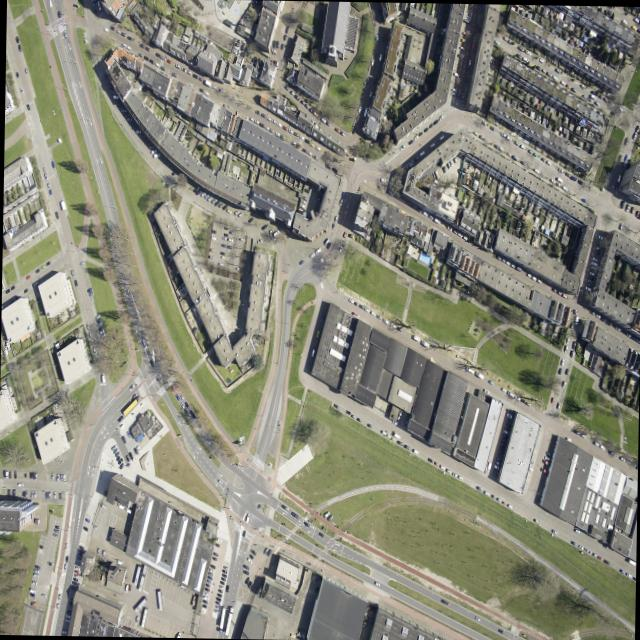large-vehicle: (122, 394, 140, 415), (137, 560, 147, 591), (223, 604, 233, 635), (217, 604, 225, 633), (133, 595, 146, 612), (132, 563, 141, 585), (139, 605, 147, 627), (156, 587, 162, 610)
small-vehicle: (3, 338, 10, 352), (59, 197, 66, 210), (41, 165, 47, 179), (391, 429, 400, 438), (626, 557, 635, 565), (474, 370, 483, 378), (420, 339, 429, 347), (202, 77, 210, 86), (440, 598, 450, 605), (188, 408, 195, 418), (506, 389, 514, 397), (464, 366, 473, 373), (99, 500, 106, 509), (485, 461, 491, 471), (412, 333, 419, 341), (313, 245, 320, 253), (116, 501, 123, 509), (541, 457, 548, 465), (124, 505, 131, 513), (100, 371, 105, 382), (141, 336, 146, 347), (120, 434, 126, 443), (362, 106, 367, 116), (2, 346, 7, 356), (590, 259, 597, 266), (555, 175, 562, 182), (514, 264, 521, 271), (322, 510, 329, 517), (351, 310, 358, 317), (28, 586, 35, 593), (291, 510, 297, 518), (332, 251, 338, 259), (116, 456, 122, 464), (128, 382, 134, 390), (249, 547, 255, 555), (624, 202, 629, 211), (619, 199, 624, 208), (395, 411, 400, 420), (337, 196, 342, 205), (179, 400, 184, 409), (123, 583, 128, 592), (62, 29, 67, 38), (517, 44, 523, 51), (569, 174, 576, 180), (559, 78, 565, 85), (589, 92, 595, 99), (630, 23, 636, 30), (564, 435, 570, 442), (545, 70, 551, 77), (433, 216, 439, 223), (521, 55, 527, 62), (432, 117, 438, 124), (439, 463, 445, 470), (404, 443, 410, 450), (293, 93, 299, 100), (115, 557, 121, 564), (250, 55, 256, 62), (264, 114, 270, 121), (272, 228, 278, 235), (456, 230, 462, 237), (213, 198, 219, 205), (138, 41, 144, 48), (148, 57, 154, 64), (265, 548, 271, 555), (152, 151, 159, 157), (568, 320, 573, 328), (616, 153, 621, 161), (615, 173, 620, 181), (622, 136, 627, 144), (631, 130, 636, 138), (112, 446, 117, 454), (125, 429, 130, 437), (125, 454, 130, 462), (323, 237, 328, 245), (118, 461, 123, 469), (244, 576, 249, 584), (148, 358, 153, 366), (16, 43, 21, 51), (173, 382, 178, 390), (174, 392, 179, 400), (245, 512, 249, 522), (262, 546, 267, 554), (96, 0, 100, 9), (571, 339, 575, 348), (603, 558, 609, 564), (585, 548, 591, 554), (570, 539, 576, 545), (584, 285, 590, 291), (573, 330, 577, 339), (532, 167, 538, 173), (629, 334, 635, 340), (599, 315, 605, 321), (573, 527, 579, 533), (511, 153, 517, 159), (591, 255, 597, 261), (593, 248, 599, 254), (576, 178, 582, 184), (620, 18, 626, 24), (573, 428, 579, 434), (579, 432, 585, 438), (554, 67, 560, 73), (128, 450, 132, 459), (604, 8, 610, 14), (632, 16, 638, 22), (515, 52, 521, 58), (530, 274, 536, 280), (499, 131, 505, 137), (598, 443, 604, 449), (463, 18, 469, 24), (540, 466, 546, 472), (502, 428, 508, 434), (505, 412, 511, 418), (526, 465, 532, 471), (513, 394, 519, 400), (482, 387, 488, 393), (375, 313, 381, 319), (415, 206, 421, 212), (448, 157, 452, 166), (446, 159, 450, 168), (441, 163, 445, 172), (432, 178, 438, 184), (382, 317, 388, 323), (389, 321, 395, 327), (412, 154, 418, 160), (456, 52, 462, 58), (501, 432, 507, 438), (412, 448, 418, 454), (396, 439, 402, 445), (308, 251, 314, 257), (280, 503, 286, 509), (310, 346, 314, 355), (524, 49, 530, 55), (535, 64, 541, 70), (326, 514, 332, 520), (347, 297, 353, 303), (324, 161, 330, 167), (314, 144, 320, 150), (311, 153, 317, 159), (300, 194, 306, 200), (281, 124, 287, 130), (292, 130, 298, 136), (202, 589, 208, 595), (319, 116, 325, 122), (254, 108, 260, 114), (215, 86, 221, 92), (210, 83, 216, 89), (191, 72, 197, 78), (363, 306, 369, 312), (97, 324, 103, 330), (101, 548, 105, 557), (195, 188, 201, 194), (225, 207, 231, 213), (260, 223, 266, 229), (119, 30, 125, 36), (143, 45, 149, 51), (142, 54, 148, 60), (56, 8, 60, 17), (65, 608, 71, 614), (69, 584, 75, 590), (70, 268, 74, 277), (86, 286, 92, 292), (51, 531, 57, 537), (32, 571, 38, 577), (33, 563, 39, 569), (110, 443, 115, 450), (135, 444, 140, 451), (117, 414, 122, 421), (438, 133, 443, 140), (325, 241, 330, 248), (183, 400, 188, 407), (246, 556, 251, 563), (246, 580, 251, 587), (308, 106, 313, 113), (96, 319, 101, 326), (569, 349, 573, 357), (561, 379, 565, 387), (557, 366, 561, 374), (559, 357, 563, 365), (592, 217, 596, 225), (452, 154, 456, 162), (377, 52, 381, 60), (613, 181, 617, 189), (618, 221, 622, 229), (319, 313, 323, 321), (224, 583, 228, 591), (274, 59, 278, 67), (271, 58, 275, 66), (134, 614, 138, 622), (365, 74, 369, 82), (357, 105, 361, 113), (284, 24, 288, 32), (282, 32, 286, 40), (179, 391, 183, 399), (456, 166, 460, 174), (92, 345, 96, 353), (239, 42, 243, 50), (14, 34, 18, 42), (50, 159, 54, 167), (85, 321, 89, 329), (73, 278, 77, 286), (54, 210, 58, 218), (551, 528, 556, 534), (587, 274, 593, 279), (596, 554, 601, 560), (577, 543, 582, 549), (602, 542, 607, 548), (545, 159, 550, 165), (586, 95, 591, 101), (594, 312, 599, 318), (605, 319, 610, 325), (614, 325, 620, 330), (560, 292, 566, 297), (564, 171, 569, 177), (561, 184, 566, 190), (593, 440, 598, 446), (114, 450, 119, 456), (283, 84, 288, 90), (509, 262, 514, 268), (504, 259, 509, 265), (495, 254, 500, 260), (492, 143, 498, 148), (505, 134, 510, 140), (493, 38, 498, 44), (618, 455, 624, 460), (608, 449, 613, 455), (535, 277, 540, 283), (540, 67, 545, 73), (506, 502, 511, 508), (483, 489, 488, 495), (476, 485, 481, 491), (492, 463, 498, 468), (373, 580, 379, 585), (524, 400, 529, 406), (487, 379, 493, 384), (396, 325, 401, 331), (369, 310, 375, 315), (446, 224, 451, 230), (427, 213, 432, 219), (428, 141, 433, 147), (399, 143, 404, 149), (418, 149, 423, 155), (437, 113, 442, 119), (452, 71, 458, 76), (407, 138, 412, 144), (317, 531, 323, 536), (445, 467, 450, 473), (427, 456, 432, 462), (303, 520, 308, 526), (339, 129, 344, 135), (334, 126, 339, 132), (331, 166, 336, 172), (295, 141, 300, 147), (303, 137, 308, 143), (303, 187, 308, 193), (300, 198, 305, 204), (299, 202, 304, 208), (298, 133, 303, 139), (287, 127, 292, 133), (202, 594, 208, 599), (270, 47, 275, 53), (207, 246, 213, 251), (238, 236, 244, 241), (226, 236, 232, 241), (242, 569, 248, 574), (243, 563, 248, 569), (212, 550, 217, 556), (208, 566, 213, 572), (203, 89, 208, 95), (197, 75, 202, 81), (258, 121, 263, 127), (253, 118, 258, 124), (625, 571, 630, 577), (237, 210, 242, 216), (275, 120, 280, 126), (274, 130, 279, 136), (543, 454, 548, 460), (551, 73, 556, 79), (95, 316, 100, 322), (94, 312, 99, 318), (240, 38, 245, 44), (217, 201, 222, 207), (210, 197, 215, 203), (221, 203, 226, 209), (233, 208, 238, 214), (247, 216, 252, 222), (126, 34, 131, 40), (159, 64, 164, 70), (179, 66, 185, 71), (174, 62, 179, 68), (109, 24, 114, 30), (77, 548, 82, 554), (102, 73, 108, 78), (67, 600, 72, 606), (74, 564, 79, 570), (131, 392, 136, 398), (64, 612, 70, 617), (109, 88, 115, 93), (165, 57, 170, 63), (159, 53, 164, 59), (154, 51, 159, 57), (39, 263, 44, 269), (24, 273, 29, 279), (4, 287, 9, 293), (12, 293, 17, 299), (7, 297, 12, 303), (87, 290, 92, 296), (44, 259, 49, 265), (52, 527, 58, 532), (33, 567, 38, 573), (565, 336, 569, 343), (623, 153, 627, 160), (634, 209, 638, 216), (564, 367, 568, 374), (563, 344, 567, 351), (634, 124, 638, 131), (133, 446, 137, 453), (128, 427, 132, 434), (629, 205, 633, 212), (372, 49, 376, 56), (369, 58, 373, 65), (315, 329, 319, 336), (342, 230, 346, 237), (340, 190, 344, 197), (351, 126, 355, 133), (183, 407, 187, 414), (279, 42, 283, 49), (236, 48, 240, 55), (367, 90, 371, 97), (25, 102, 29, 109), (19, 85, 23, 92), (14, 70, 18, 77), (23, 65, 27, 72), (170, 384, 174, 391), (241, 529, 245, 536), (64, 554, 68, 561), (47, 187, 51, 194), (637, 210, 640, 219), (470, 42, 473, 51), (372, 73, 375, 82), (55, 472, 58, 481), (588, 270, 593, 275), (619, 568, 624, 573), (625, 331, 630, 336), (570, 86, 575, 91), (581, 93, 586, 98), (588, 309, 593, 314), (590, 264, 595, 269), (597, 234, 602, 239), (593, 100, 598, 105), (610, 110, 615, 115), (558, 167, 563, 172), (519, 159, 524, 164), (497, 628, 502, 633), (474, 615, 479, 620), (579, 82, 584, 87), (590, 89, 595, 94), (597, 93, 602, 98), (602, 96, 607, 101), (545, 450, 550, 455), (497, 145, 502, 150), (502, 35, 507, 40), (519, 143, 524, 148), (527, 148, 532, 153), (461, 30, 466, 35), (513, 140, 518, 145), (490, 493, 495, 498), (495, 455, 500, 460), (497, 448, 502, 453), (503, 424, 508, 429), (528, 458, 533, 463), (520, 398, 525, 403), (500, 437, 505, 442), (500, 386, 505, 391), (498, 444, 503, 449), (451, 228, 456, 233), (422, 210, 427, 215), (450, 90, 455, 95), (450, 86, 455, 91), (580, 197, 585, 202), (366, 422, 371, 427), (433, 460, 438, 465), (391, 419, 396, 424), (358, 303, 363, 308), (332, 156, 337, 161), (306, 149, 311, 154), (290, 139, 295, 144), (278, 133, 283, 138), (316, 196, 321, 201), (308, 141, 313, 146), (215, 595, 220, 600), (216, 591, 221, 596), (202, 598, 207, 603), (204, 582, 209, 587), (350, 413, 355, 418), (205, 578, 210, 583), (356, 416, 361, 421), (344, 409, 349, 414), (299, 99, 304, 104), (209, 563, 214, 568), (211, 555, 216, 560), (312, 110, 317, 115), (332, 402, 337, 407), (206, 574, 211, 579), (207, 570, 212, 575), (263, 124, 268, 129), (260, 112, 265, 117), (270, 118, 275, 123), (198, 87, 203, 92), (231, 48, 236, 53), (451, 471, 456, 476), (233, 41, 238, 46), (210, 228, 215, 233), (192, 186, 197, 191), (98, 328, 103, 333), (171, 169, 176, 174), (92, 523, 97, 528), (235, 37, 240, 42), (203, 193, 208, 198), (206, 195, 211, 200), (267, 127, 272, 132), (215, 536, 220, 541), (179, 583, 184, 588), (120, 41, 125, 46), (125, 44, 130, 49), (137, 52, 142, 57), (171, 71, 176, 76), (102, 26, 107, 31), (76, 553, 81, 558), (68, 597, 73, 602), (71, 580, 76, 585), (72, 576, 77, 581), (64, 617, 69, 622), (135, 128, 140, 133), (115, 98, 120, 103), (105, 78, 110, 83), (34, 267, 39, 272), (22, 287, 27, 292), (9, 284, 14, 289), (40, 592, 45, 597), (82, 525, 87, 530), (222, 564, 227, 569), (221, 572, 226, 577), (46, 560, 51, 565), (31, 579, 36, 584), (29, 591, 34, 596), (78, 544, 83, 549), (574, 315, 577, 323), (621, 160, 625, 166), (549, 396, 553, 402), (115, 454, 119, 460), (4, 469, 7, 477), (540, 156, 544, 162), (636, 27, 640, 33), (565, 82, 569, 88), (489, 124, 493, 130), (464, 74, 467, 82), (498, 441, 504, 445), (423, 125, 427, 131), (331, 221, 334, 229), (337, 245, 341, 251), (217, 478, 221, 484), (275, 39, 278, 47), (271, 39, 274, 47), (304, 102, 308, 108), (206, 254, 212, 258), (459, 44, 463, 50), (52, 490, 55, 498), (125, 116, 131, 120), (47, 490, 50, 498), (79, 259, 83, 265), (289, 89, 293, 95), (34, 471, 37, 479), (12, 488, 15, 496), (13, 469, 16, 477), (7, 469, 10, 477), (33, 489, 36, 497), (63, 562, 66, 570), (24, 489, 27, 497), (87, 330, 91, 336), (556, 401, 559, 408), (467, 58, 470, 65), (460, 91, 463, 98), (465, 66, 468, 73), (477, 5, 480, 12), (376, 7, 379, 14), (378, 16, 381, 23), (313, 338, 316, 345), (333, 214, 336, 221), (269, 58, 272, 65), (127, 583, 130, 590), (96, 546, 99, 553), (57, 592, 60, 599), (46, 180, 49, 187), (50, 471, 53, 478), (31, 471, 34, 478), (6, 488, 9, 495), (587, 278, 591, 283), (591, 552, 596, 556), (532, 151, 536, 156), (556, 289, 560, 294), (595, 245, 599, 250), (617, 105, 621, 110), (506, 151, 510, 156), (147, 144, 152, 148), (500, 257, 504, 262), (461, 235, 466, 239), (473, 130, 477, 135), (526, 272, 530, 277), (481, 120, 485, 125), (186, 69, 190, 74), (496, 496, 500, 501), (457, 474, 461, 479), (505, 421, 509, 426), (428, 122, 432, 127), (379, 177, 384, 181), (417, 130, 421, 135), (413, 134, 417, 139), (298, 259, 302, 264), (217, 587, 221, 592), (218, 583, 222, 588), (201, 603, 206, 607), (204, 586, 208, 591), (228, 230, 233, 234), (219, 250, 224, 254), (220, 242, 225, 246), (226, 244, 231, 248), (248, 553, 252, 558), (217, 261, 222, 265), (325, 120, 329, 125), (248, 115, 252, 120), (549, 177, 553, 182), (100, 331, 104, 336), (200, 191, 204, 196), (209, 235, 214, 239), (268, 227, 272, 232), (214, 542, 219, 546), (107, 84, 112, 88), (154, 61, 158, 66), (115, 28, 119, 33), (75, 557, 80, 561), (91, 1, 96, 5), (219, 579, 223, 584), (138, 132, 143, 136), (73, 569, 78, 573), (61, 628, 65, 633), (117, 103, 122, 107), (131, 124, 136, 128), (33, 280, 37, 285), (220, 576, 225, 580), (221, 568, 226, 572), (150, 148, 155, 152), (84, 517, 88, 522), (54, 524, 59, 528), (37, 544, 42, 548), (239, 50, 242, 56), (58, 492, 61, 498), (44, 491, 47, 497), (55, 602, 58, 608), (122, 112, 128, 115), (28, 471, 31, 477), (61, 473, 64, 479), (21, 489, 24, 495), (586, 282, 590, 286), (551, 287, 555, 291), (555, 181, 559, 185), (501, 500, 505, 504), (353, 301, 357, 305), (301, 147, 305, 151), (214, 604, 218, 608), (215, 600, 219, 604), (213, 608, 217, 612), (221, 235, 225, 239), (223, 232, 227, 236), (234, 265, 238, 269), (233, 45, 237, 49), (73, 573, 77, 577), (129, 120, 133, 124), (2, 468, 4, 476), (141, 137, 146, 140), (120, 108, 125, 111), (112, 94, 117, 97), (23, 472, 26, 477), (17, 482, 22, 485), (30, 490, 32, 497), (381, 34, 383, 40), (375, 34, 377, 40), (220, 255, 224, 258), (144, 141, 148, 144), (59, 473, 61, 479), (90, 0, 95, 2)
